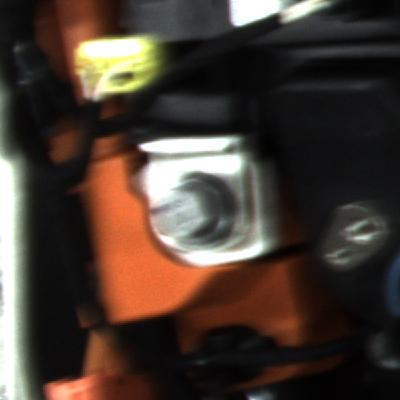nut_b: (148, 166, 250, 257)
